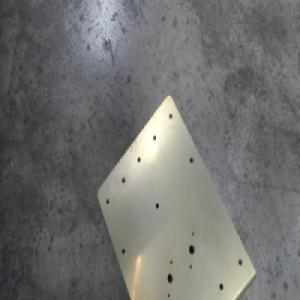MetalSheet: (94, 90, 259, 300)
